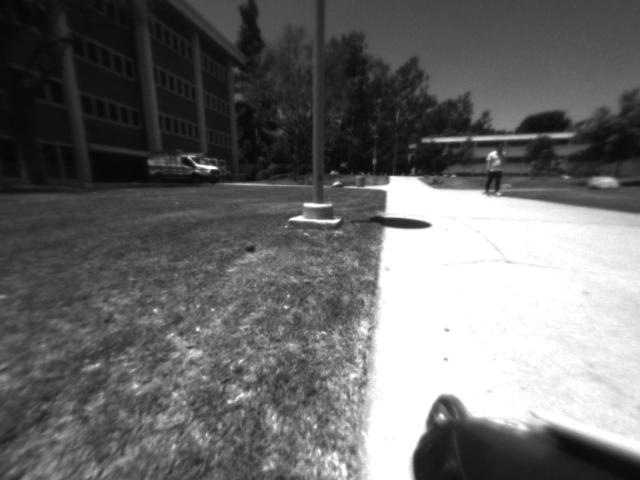dogtoy: (239, 239, 262, 257)
